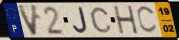2: (42, 5, 65, 36)
C: (89, 6, 114, 34), (136, 6, 159, 36)
H: (112, 5, 140, 35)
J: (72, 6, 89, 35)
V: (16, 4, 40, 37)
